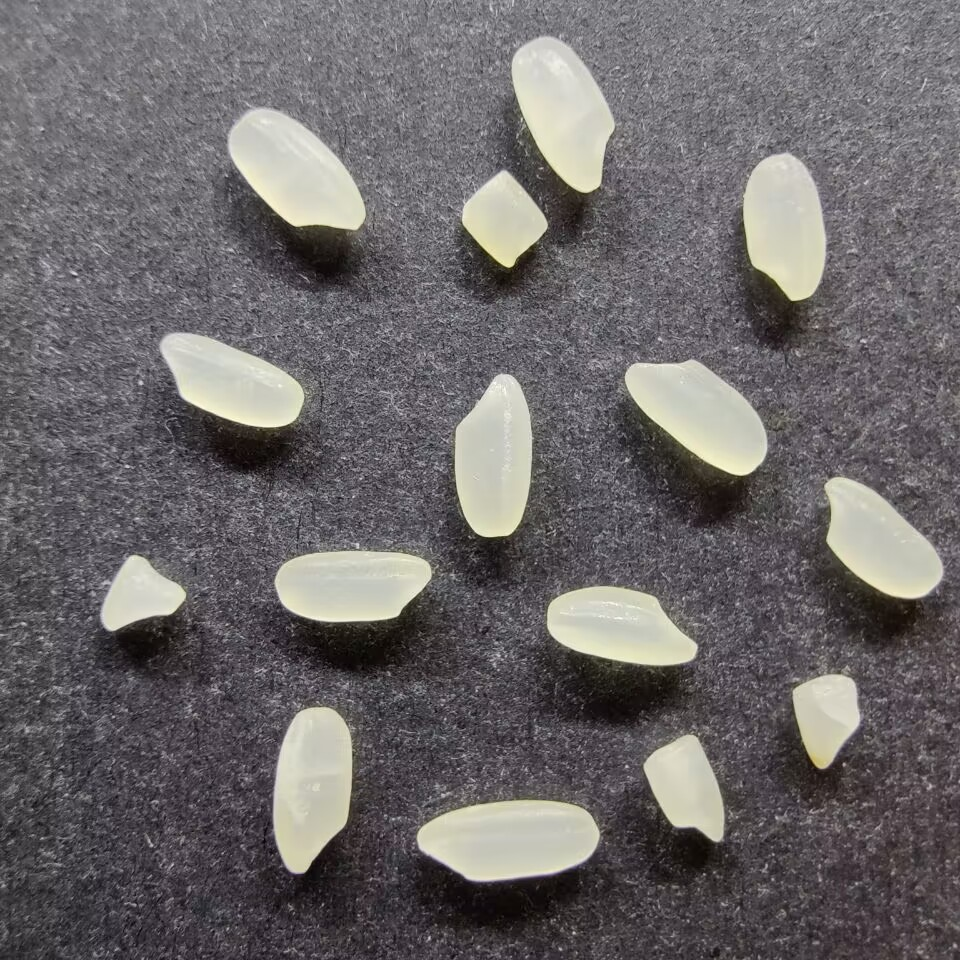broken: (458, 167, 550, 270), (642, 732, 726, 844), (97, 551, 189, 634), (792, 672, 862, 770)
rice: (225, 106, 367, 231), (622, 357, 768, 477), (509, 34, 617, 194), (822, 475, 947, 601), (414, 798, 599, 882), (158, 328, 305, 430), (269, 705, 353, 875), (451, 371, 534, 538), (740, 151, 827, 303), (544, 584, 700, 667), (273, 548, 433, 624)
